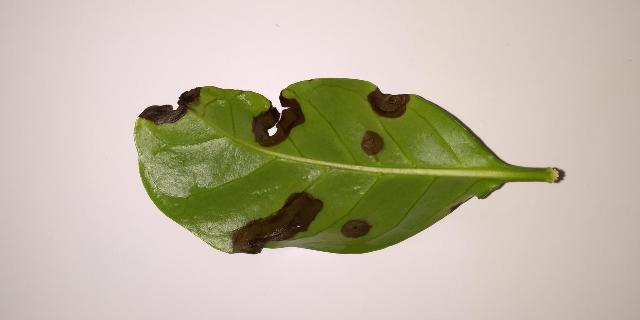rust: (232, 192, 323, 254), (252, 90, 305, 146), (139, 87, 203, 124), (367, 87, 411, 118), (341, 219, 371, 238), (362, 131, 384, 156)
